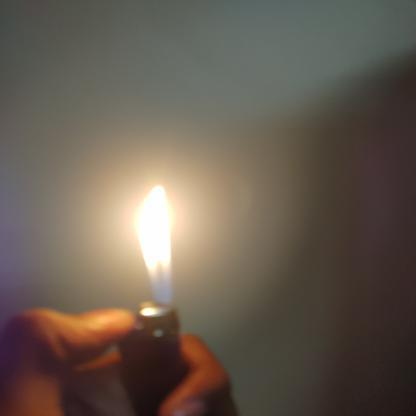Fire: (125, 173, 192, 321)
